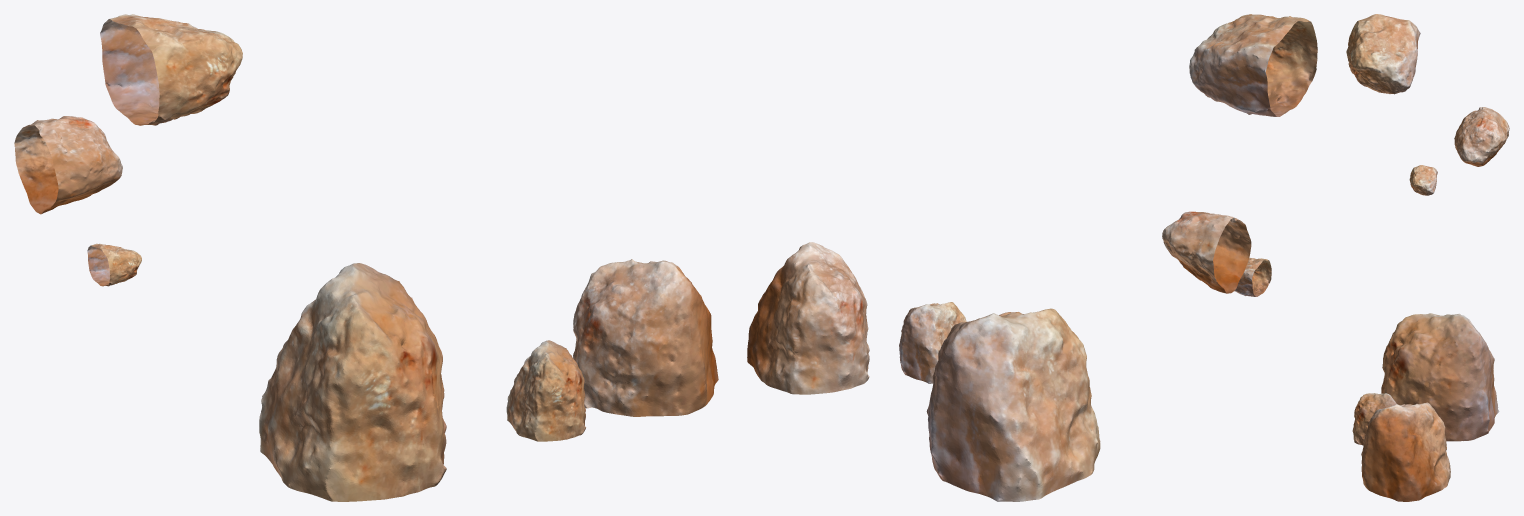
3 views of the same model, side by side, from view 1: azimuth 30°, elevation 25°; view 2: azimuth 150°, elevation 25°; view 3: azimuth 270°, elevation 25° (orthographic). The views are drawn at different scales.
Visible parts, largest first — view 1: SalzStein1, SalzStein2, SalzStein1.002, SalzStein2.001, SalzStein1.001, SalzStein1.003; view 2: SalzStein1, SalzStein2, SalzStein1.002, SalzStein2.001, SalzStein1.001, SalzStein1.003; view 3: SalzStein1, SalzStein2, SalzStein1.002, SalzStein2.001, SalzStein1.001, SalzStein1.003.
Part boxes in pixels (x1,y1,x2,y2): SalzStein1: (259, 263, 446, 501); SalzStein2: (573, 259, 718, 416); SalzStein1.002: (100, 14, 242, 125); SalzStein2.001: (14, 116, 122, 214); SalzStein1.001: (506, 340, 585, 441); SalzStein1.003: (87, 243, 141, 286); SalzStein1: (926, 308, 1100, 501); SalzStein2: (747, 242, 869, 394); SalzStein1.002: (1189, 14, 1317, 116); SalzStein2.001: (1162, 211, 1251, 293); SalzStein1.001: (899, 302, 966, 383); SalzStein1.003: (1234, 257, 1271, 296); SalzStein1: (1381, 313, 1499, 441); SalzStein2: (1361, 402, 1450, 501); SalzStein1.002: (1346, 14, 1420, 94); SalzStein2.001: (1454, 107, 1509, 166); SalzStein1.001: (1352, 393, 1396, 445); SalzStein1.003: (1409, 165, 1437, 195).
Size of the model in its own units: 0.6364 by 0.5312 by 0.2409.
2 materials, 2 textured.
